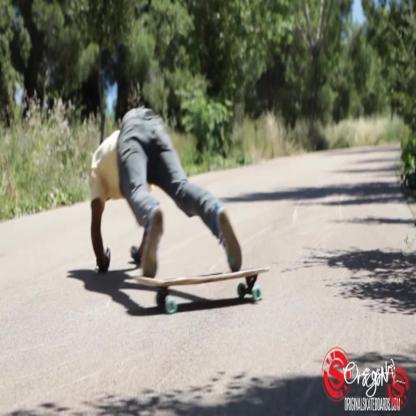Fall_Down: (89, 105, 244, 285)
